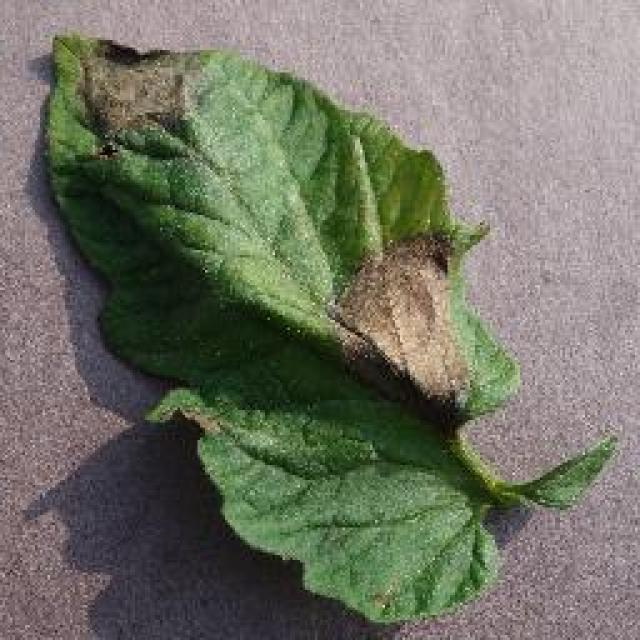Tomato late blight leaf: (40, 29, 520, 624)
